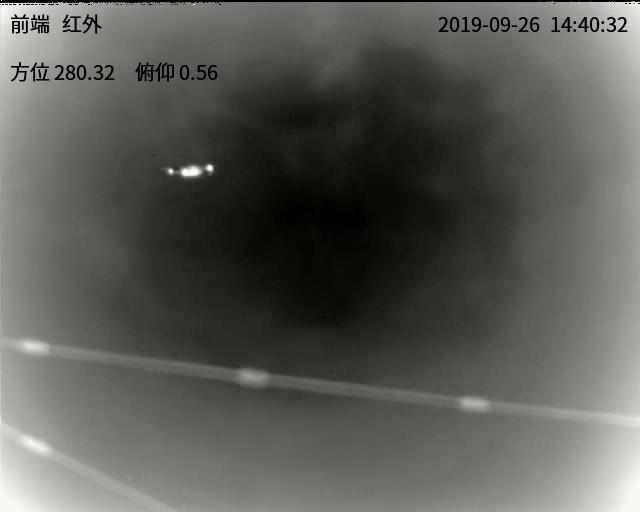DRONE: (165, 162, 214, 179)
